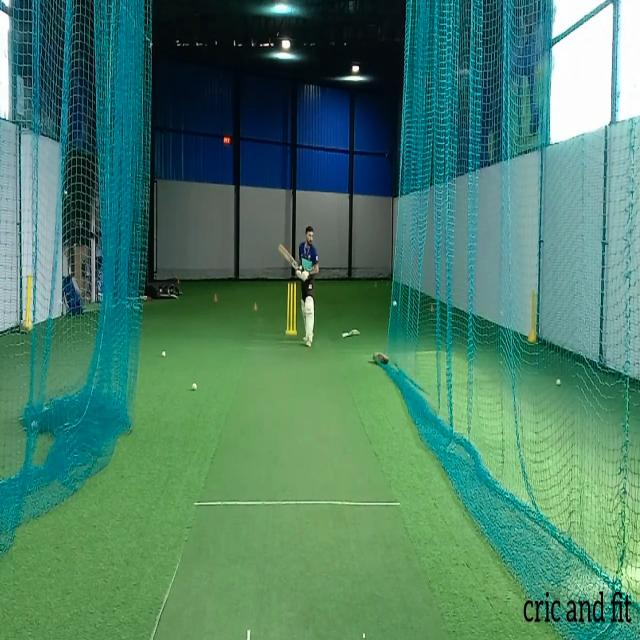batsman: (277, 225, 319, 349)
